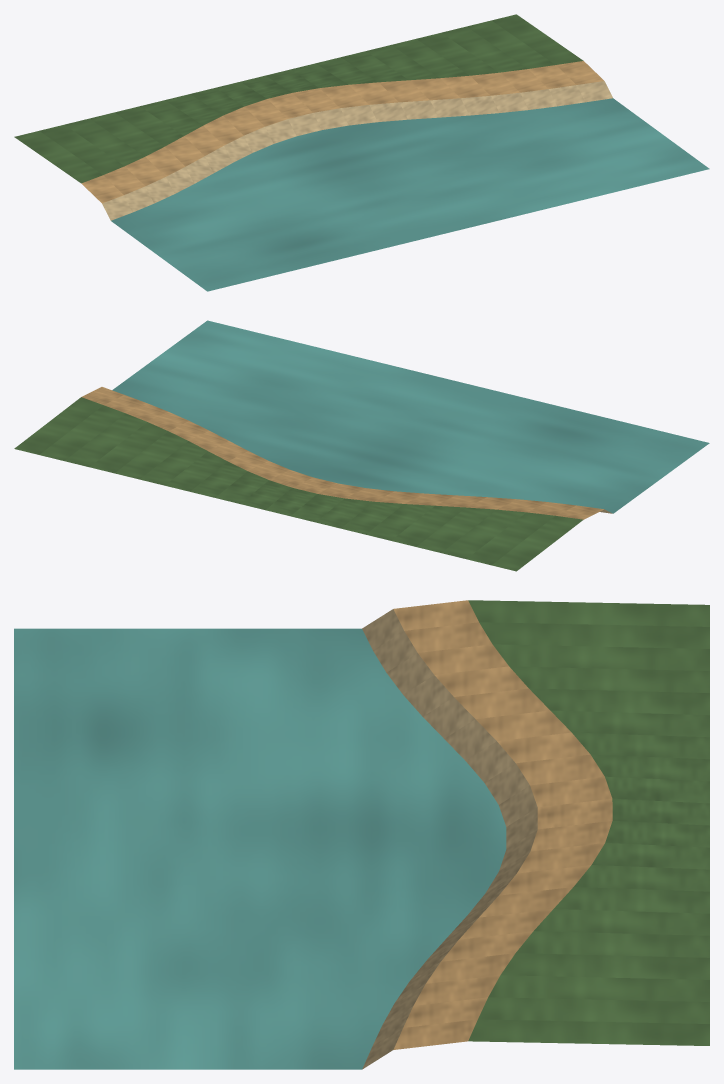
File: lake_edge_set_06.fbx
The picture shows the model from 3 angles, top to bottom: view 1: azimuth 30°, elevation 25°; view 2: azimuth 150°, elevation 25°; view 3: azimuth 270°, elevation 25°; orthographic projection. The views are drawn at different scales.
Parts seen in each view (by area): view 1: lake_edge_set_06; view 2: lake_edge_set_06; view 3: lake_edge_set_06.
Part boxes in pixels (x1,y1,x2,y2): lake_edge_set_06: [14, 14, 709, 291]; lake_edge_set_06: [14, 320, 709, 571]; lake_edge_set_06: [14, 600, 709, 1069].
Size of the model in its own units: 1200 by 36 by 800.
Materials: 2 (2 with a texture image).
